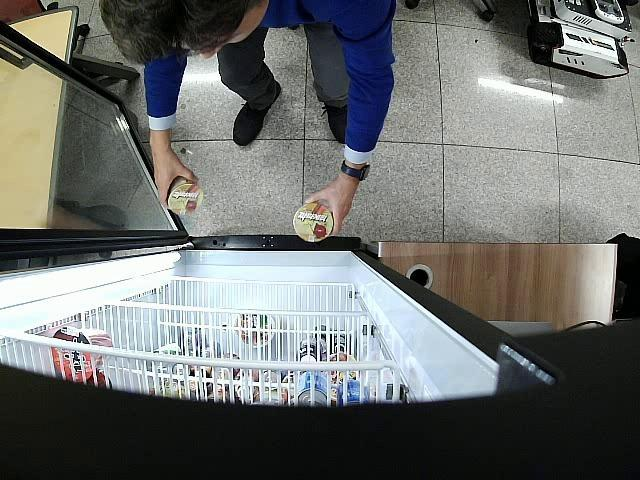04_chapagetti_S: (294, 203, 332, 242), (168, 177, 204, 216)
